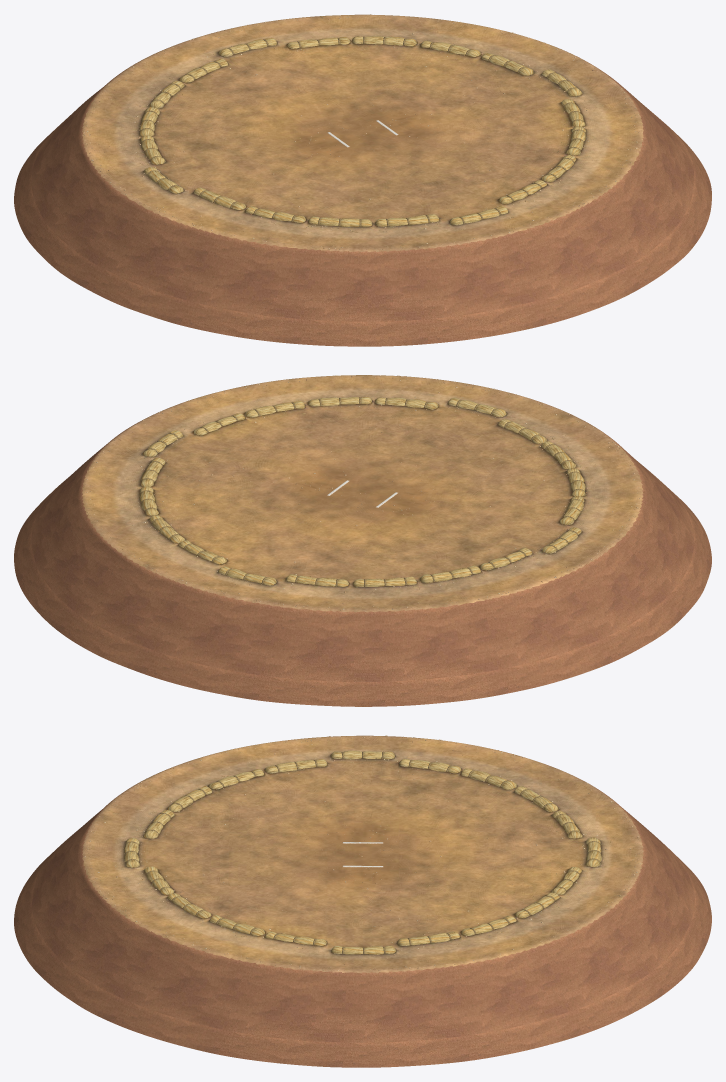
The model's file is dohyo.glb.
3 views of the same model, one above another, from view 1: azimuth 30°, elevation 25°; view 2: azimuth 150°, elevation 25°; view 3: azimuth 270°, elevation 25° (orthographic).
Visible parts, largest first — view 1: Mound, Tawara, Sand; view 2: Mound, Tawara, Sand; view 3: Mound, Tawara, Sand.
Boxes of the visible parts, left/top/right/bottom form: Mound: left=14, top=14, right=711, bottom=346; Tawara: left=135, top=35, right=592, bottom=232; Sand: left=83, top=14, right=639, bottom=249; Mound: left=14, top=375, right=711, bottom=706; Tawara: left=131, top=397, right=591, bottom=590; Sand: left=83, top=375, right=640, bottom=610; Mound: left=14, top=735, right=711, bottom=1067; Tawara: left=115, top=750, right=612, bottom=954; Sand: left=84, top=735, right=640, bottom=970.
Bounding box in the file's own units: 15.41 × 1.74 × 15.41.
Materials: 6 (6 with a texture image).
